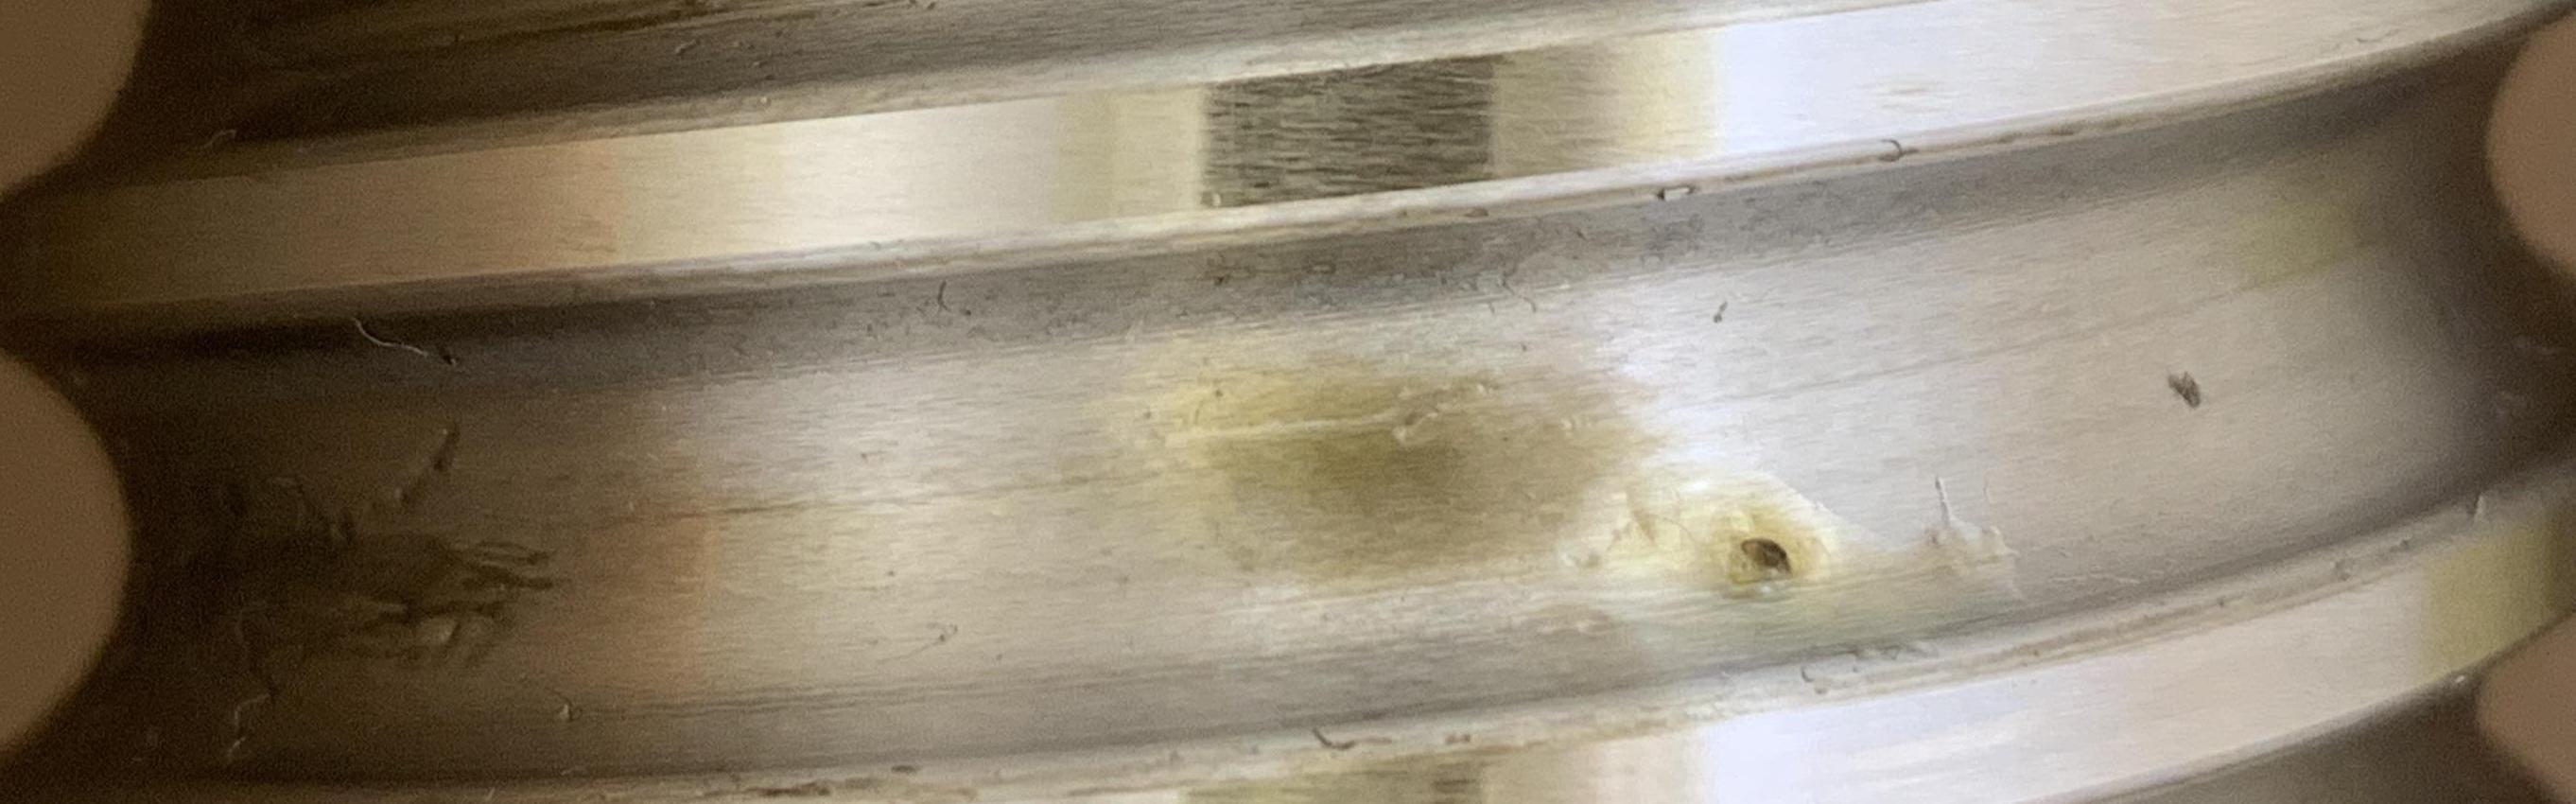pitting: (434, 342, 460, 367), (1214, 275, 1224, 283)
